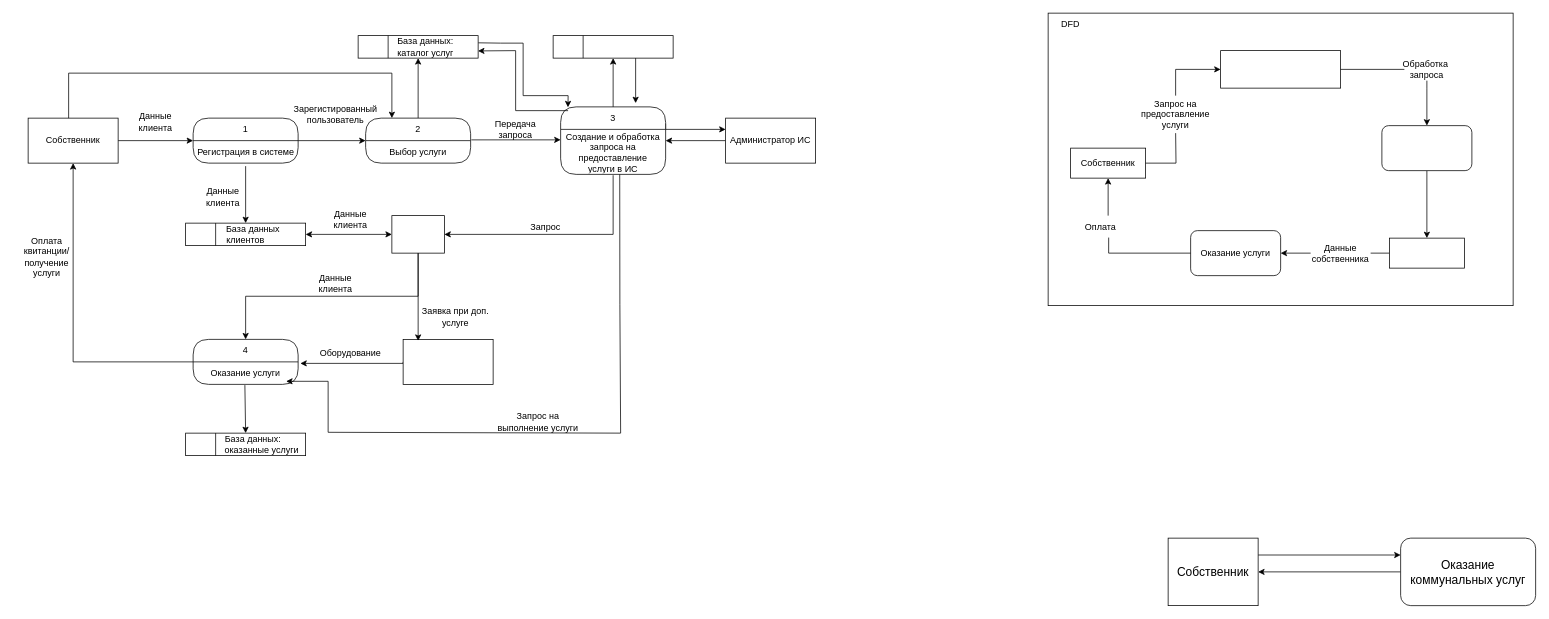
The diagram is 1549 pixels wide and 619 high, and some of its shapes have lost their labels. The box of each missing label's shape, as (x1, y1, x2, y2) in pixels:
База данных: заявки: (552, 35, 673, 58)
Запрос регистрируется в системе/передается в РЦ: (1381, 125, 1472, 171)
Подрядчики/персонал: (402, 339, 493, 384)
Расчетный центр: (1389, 237, 1464, 268)
РЦ: (391, 215, 444, 253)
Система(приложение): (1220, 50, 1341, 88)
